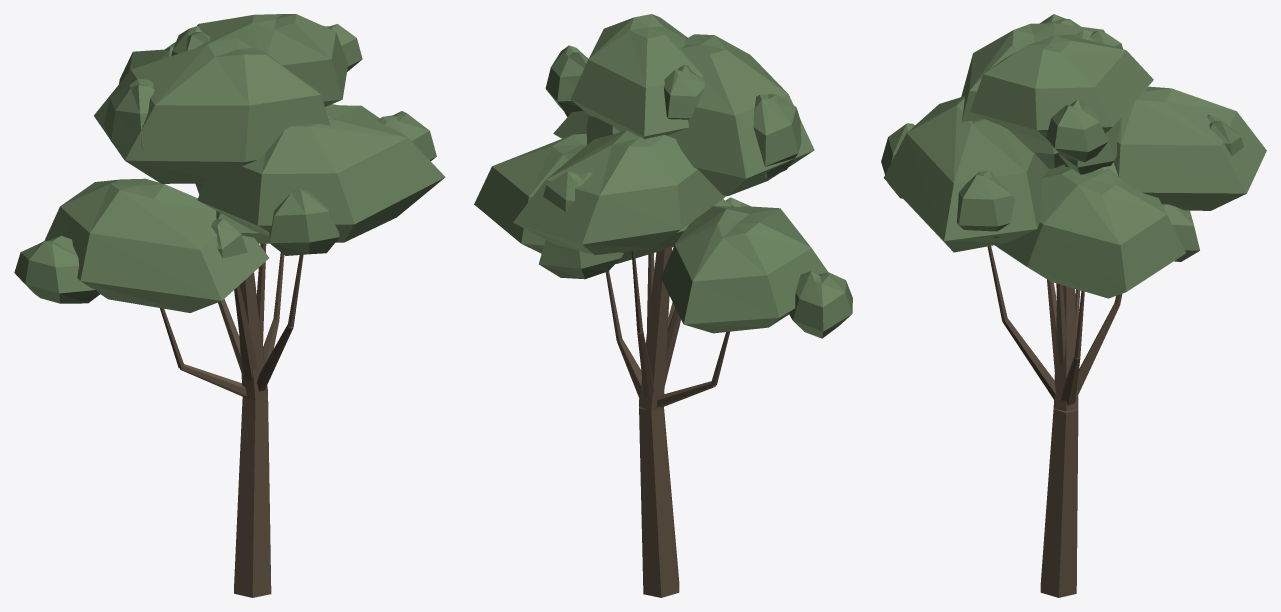
File: field-tree-upright-lite.glb
The picture shows the model from 3 angles, left to right: view 1: azimuth 30°, elevation 25°; view 2: azimuth 150°, elevation 25°; view 3: azimuth 270°, elevation 25°; orthographic projection. The views are drawn at different scales.
Parts seen in each view (by area): view 1: field-tree-upright-lite / crown, field-tree-upright-lite / trunk; view 2: field-tree-upright-lite / crown, field-tree-upright-lite / trunk; view 3: field-tree-upright-lite / crown, field-tree-upright-lite / trunk.
Part boxes in pixels (x1=…): field-tree-upright-lite / crown: x1=14, y1=14, x2=445, y2=312; field-tree-upright-lite / trunk: x1=160, y1=243, x2=303, y2=597; field-tree-upright-lite / crown: x1=474, y1=14, x2=852, y2=338; field-tree-upright-lite / trunk: x1=605, y1=246, x2=729, y2=597; field-tree-upright-lite / crown: x1=881, y1=14, x2=1266, y2=298; field-tree-upright-lite / trunk: x1=987, y1=246, x2=1122, y2=597.
Bounding box in the file's own units: 5.58 × 8.28 × 5.2.
